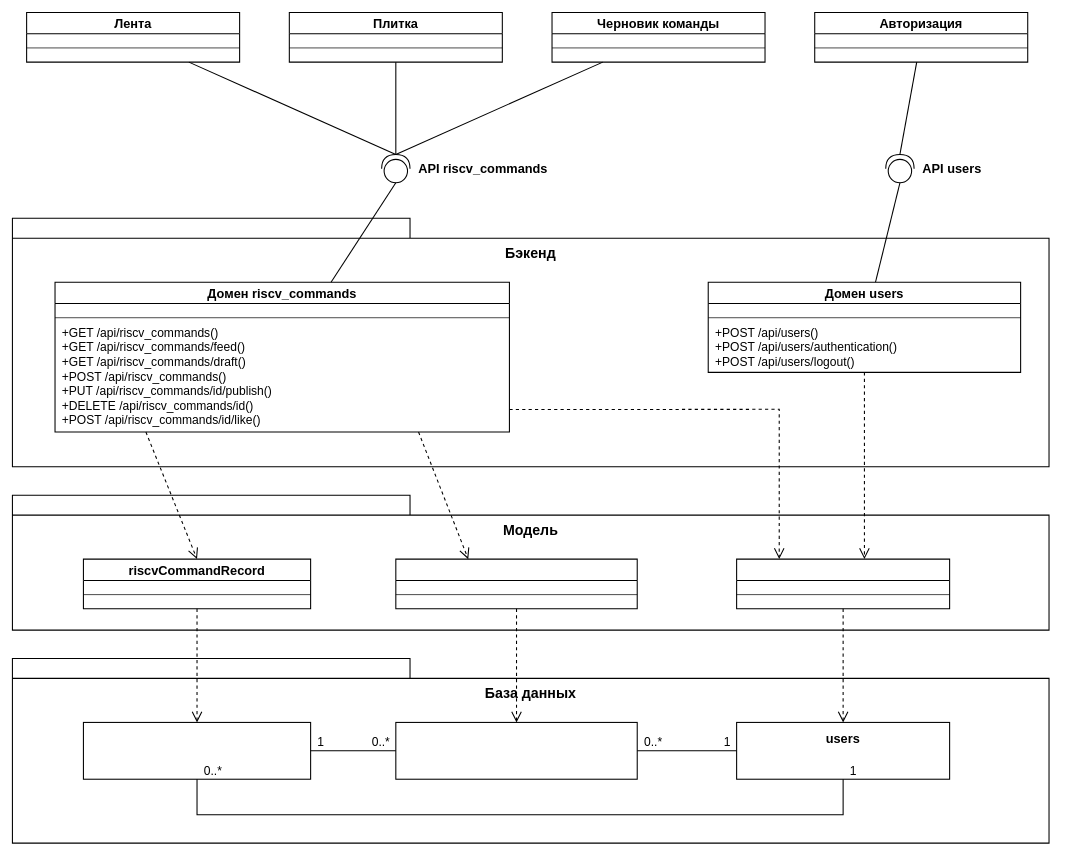
This 1076x856 diagram has some shape labels left out. The centre of each missing label's shape, as x and y in pixels:
"riscv_command_likes" goes at point 516,750.
"riscv_commands" goes at point 197,750.
"riscvCommandLikeRecord" goes at point 516,583.
"userRecord" goes at point 843,583.
